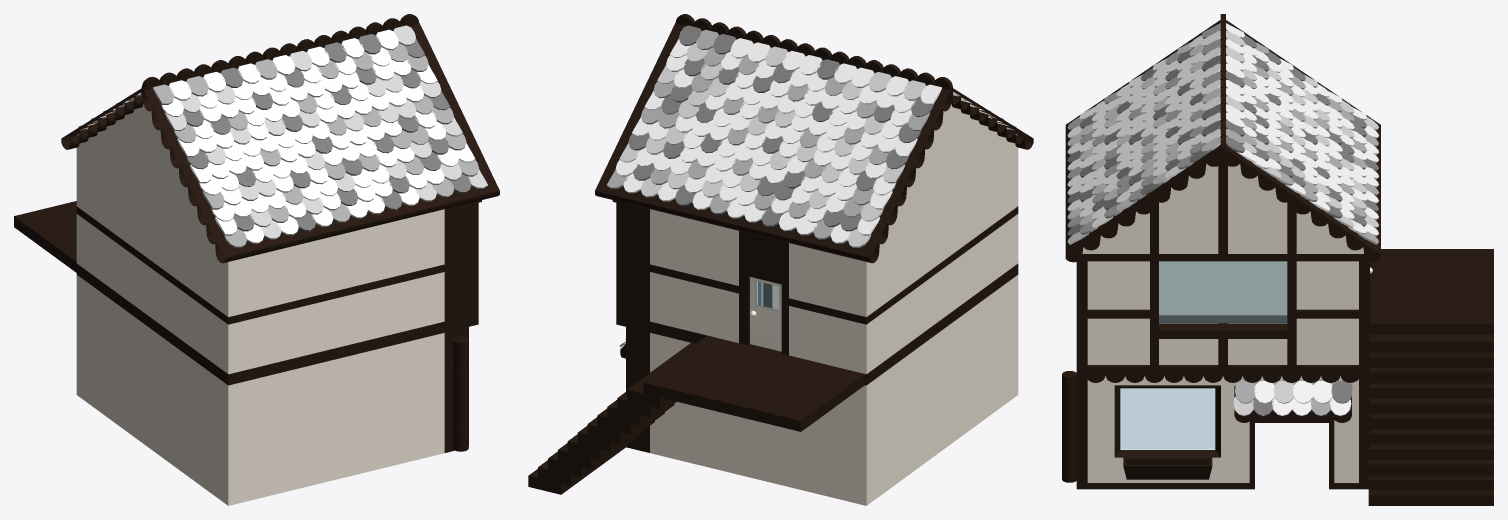
File: Dollhouse.fbx
3 renders of one model, left to right at view 1: azimuth 30°, elevation 25°; view 2: azimuth 150°, elevation 25°; view 3: azimuth 270°, elevation 25°, orthographic. The views are drawn at different scales.
Parts seen in each view (by area): view 1: Dollhouse_BACK, Dollhouse_FACADE, Dollhouse_BALCONY; view 2: Dollhouse_BACK, Dollhouse_FACADE, Dollhouse_BALCONY, Dollhouse_STAIRS, Door_BACK; view 3: Dollhouse_FACADE, Dollhouse_BACK, Dollhouse_STAIRS, Dollhouse_BALCONY.
Part boxes in pixels (left/top/right/bottom): Dollhouse_BACK: left=61, top=26, right=468, bottom=505; Dollhouse_FACADE: left=358, top=14, right=499, bottom=450; Dollhouse_BALCONY: left=14, top=201, right=76, bottom=272; Dollhouse_BACK: left=640, top=26, right=1033, bottom=505; Dollhouse_FACADE: left=595, top=14, right=778, bottom=450; Dollhouse_BALCONY: left=643, top=335, right=865, bottom=431; Dollhouse_STAIRS: left=528, top=342, right=695, bottom=494; Door_BACK: left=749, top=277, right=781, bottom=351; Dollhouse_FACADE: left=1062, top=119, right=1380, bottom=489; Dollhouse_BACK: left=1062, top=14, right=1380, bottom=482; Dollhouse_STAIRS: left=1368, top=334, right=1493, bottom=505; Dollhouse_BALCONY: left=1370, top=249, right=1493, bottom=334.
Size of what is drawn, in the model's own units: 9.38 by 6.89 by 8.66.
Materials: 6 (1 with a texture image).
